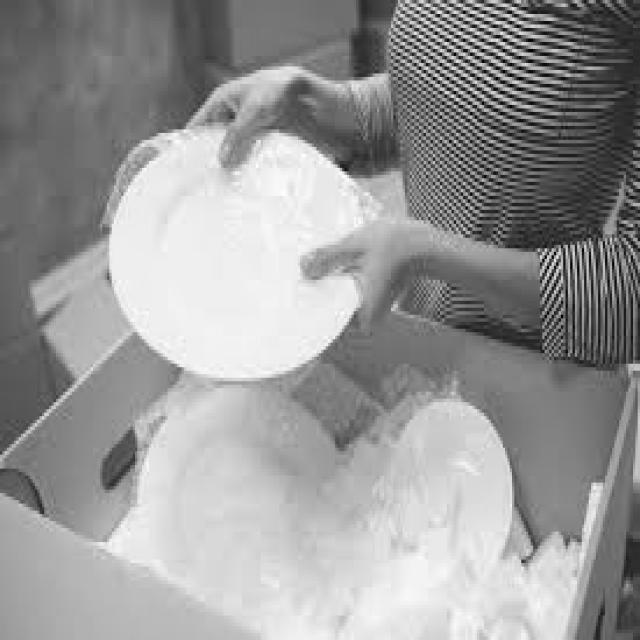dish: (95, 110, 418, 403)
